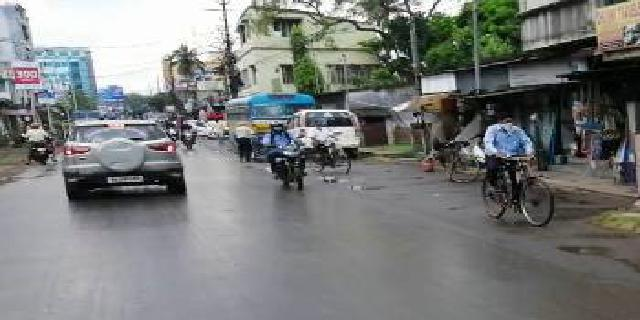Car: (61, 119, 187, 197)
Cycle: (477, 113, 559, 230)
Motorbike: (262, 118, 308, 194), (22, 119, 53, 166)
